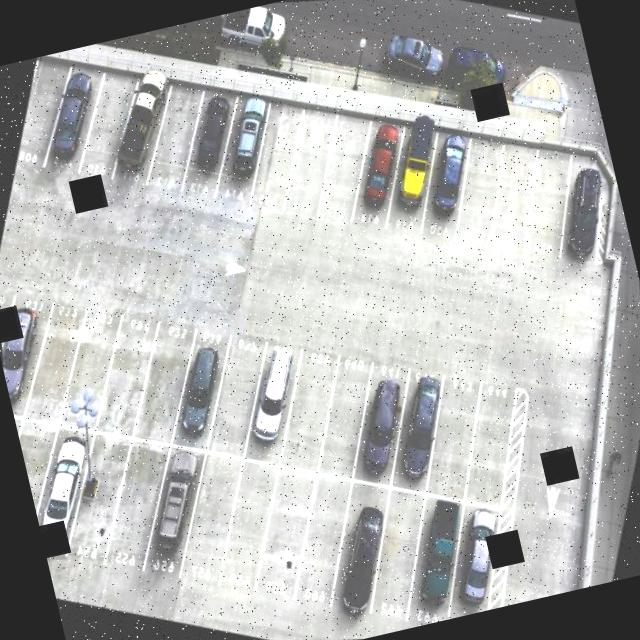car: (303, 470, 417, 624), (42, 420, 155, 567), (377, 482, 490, 628), (120, 438, 230, 586), (362, 360, 469, 502), (328, 352, 434, 492), (328, 106, 432, 246), (529, 140, 633, 280), (222, 332, 326, 471), (418, 488, 528, 617), (152, 322, 252, 460), (18, 417, 114, 558), (94, 61, 196, 193), (362, 113, 462, 243), (399, 120, 496, 248), (28, 58, 122, 183), (167, 80, 260, 201), (198, 87, 292, 206), (0, 282, 74, 425)
free: (266, 462, 384, 620), (341, 476, 457, 632), (155, 442, 271, 596), (190, 446, 306, 600), (225, 454, 340, 606), (78, 426, 194, 576), (434, 373, 544, 519), (75, 303, 183, 448), (110, 310, 218, 454), (254, 341, 362, 484), (402, 368, 509, 512), (3, 290, 110, 434), (183, 326, 290, 466), (294, 346, 400, 487), (38, 301, 144, 441), (498, 137, 600, 274), (292, 100, 393, 233), (261, 96, 362, 227), (55, 62, 156, 193), (125, 72, 225, 200), (430, 124, 528, 254), (466, 130, 564, 259), (232, 92, 330, 216), (0, 57, 84, 179), (14, 409, 78, 538), (0, 283, 36, 409)
